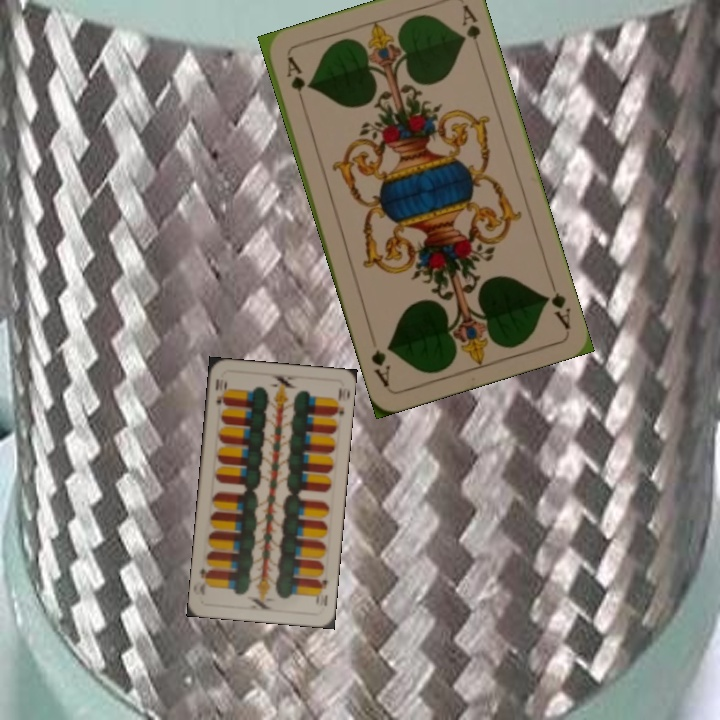E10: (211, 375, 230, 408), (312, 576, 330, 609)
GA: (540, 274, 573, 332), (282, 52, 308, 110)
